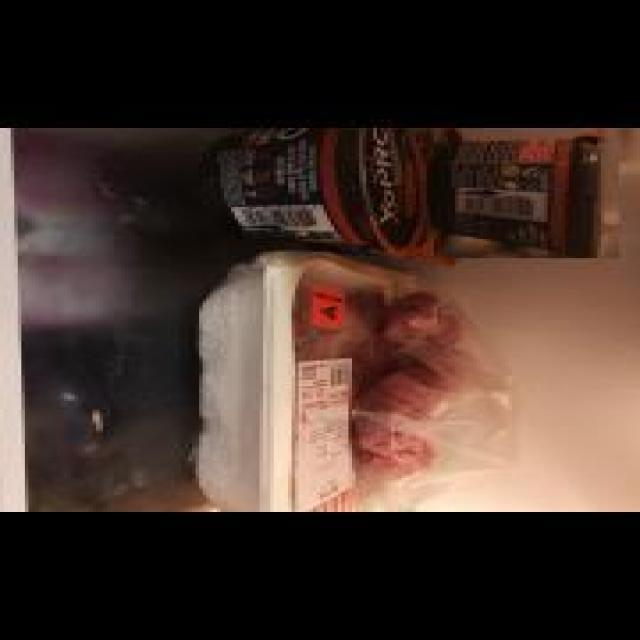yogurt: (183, 131, 432, 257), (430, 128, 615, 258)
